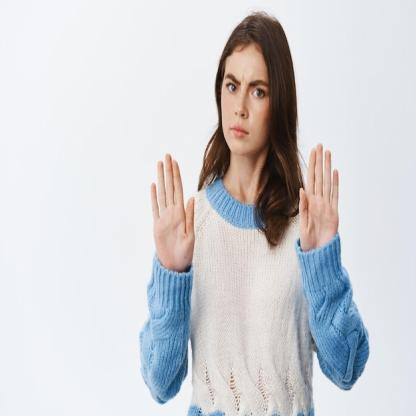stop: (141, 152, 202, 270), (295, 140, 343, 260)
